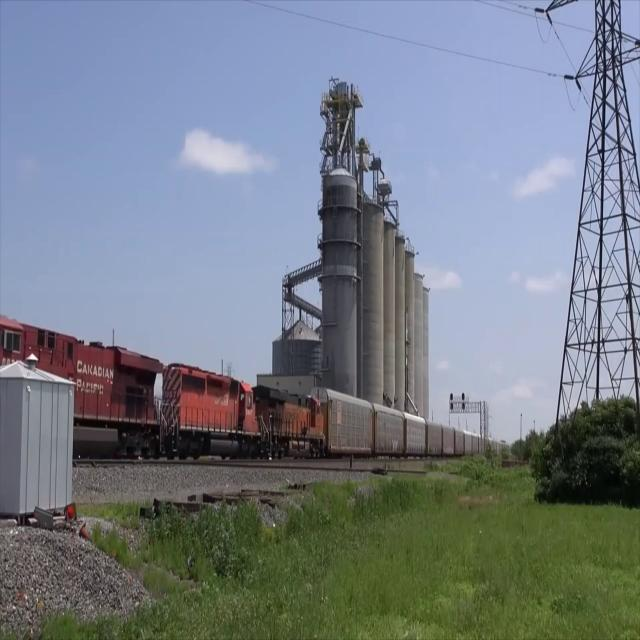autorack: (312, 384, 374, 463), (374, 398, 406, 461)
locomotive: (0, 308, 170, 471), (163, 360, 265, 464), (254, 381, 326, 466)
